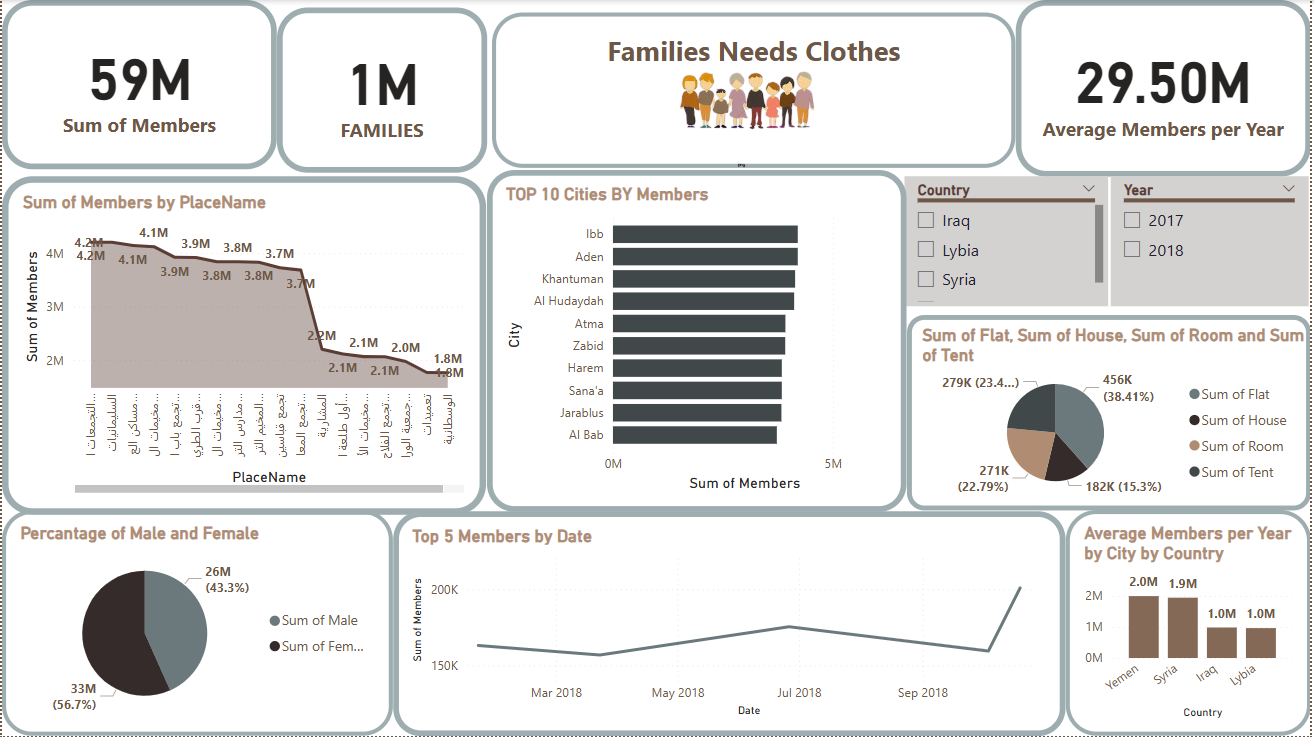

This screenshot's page, from the dashboard's own definition file:
{"tool":"powerbi","page":{"name":"Clothes","canvas":[1280,720],"ordinal":0},"visuals":[{"type":"card","fields":{"Values":["Sum(Clothes.Members)"]},"box":[0,0,268.6,165.7],"z":0},{"type":"pieChart","title":"Percantage of Male and Female","fields":{"Y":["Sum(Clothes.Male)","Sum(Clothes.Female)"]},"box":[0,499.4,382.4,221.2],"z":1000},{"type":"pieChart","fields":{"Y":["Sum(Clothes.Flat)","Sum(Clothes.House)","Sum(Clothes.Room)","Sum(Clothes.Tent)"]},"box":[884.7,308.2,395.3,191.2],"z":2000},{"type":"lineChart","title":"Top 5  Members by Date","fields":{"Category":["Clothes.Date.Variation.Date Hierarchy.Year"],"Y":["Sum(Clothes.Members)"]},"box":[382.7,500.1,657.9,220.1],"z":3000},{"type":"areaChart","fields":{"Category":["Clothes.PlaceName"],"Y":["Sum(Clothes.Members)"]},"box":[0,172.7,473.8,331.1],"z":4000},{"type":"card","fields":{"Values":["Clothes.FAMILIES"]},"box":[268.6,7.1,205.7,161.4],"z":5000},{"type":"card","fields":{"Values":["Clothes.Average Members per Year"]},"box":[991.7,0,288.6,172.4],"z":6000},{"type":"clusteredColumnChart","fields":{"Y":["Clothes.Average Members per Year by City"],"Category":["Clothes.Country"]},"box":[1040.3,499.4,239.7,221.2],"z":7000},{"type":"slicer","fields":{"Values":["Clothes.Year"]},"box":[1084.7,172.4,193.2,127.2],"z":8000},{"type":"slicer","fields":{"Values":["Clothes.Country"]},"box":[885.3,172.4,199.3,127.2],"z":9000},{"type":"textbox","box":[479.4,12.2,512.4,151.6],"z":10000},{"type":"image","box":[474.5,23.2,511.1,149.2],"z":11000},{"type":"clusteredBarChart","title":"TOP 10 Cities BY Members","fields":{"Category":["Clothes.City"],"Y":["Sum(Clothes.Members)"]},"box":[474.3,165.7,410,334.3],"z":12000}]}

Visuals, with their boxes in screenshot pixels (x1, y1, x2, y2), scaled from the page's 1280x720 canvas onto the 1314x737 screenshot:
card - Sum(Clothes.Members): bbox=[0, 0, 276, 170]
"Percantage of Male and Female" pieChart: bbox=[0, 511, 393, 736]
pieChart - Sum(Clothes.Flat) x Sum(Clothes.House): bbox=[908, 315, 1313, 511]
"Top 5  Members by Date" lineChart: bbox=[393, 512, 1068, 736]
areaChart - Clothes.PlaceName x Sum(Clothes.Members): bbox=[0, 177, 486, 516]
card - Clothes.FAMILIES: bbox=[276, 7, 487, 172]
card - Clothes.Average Members per Year: bbox=[1018, 0, 1313, 176]
clusteredColumnChart - Clothes.Average Members per Year by City x Clothes.Country: bbox=[1068, 511, 1313, 736]
slicer - Clothes.Year: bbox=[1114, 176, 1312, 307]
slicer - Clothes.Country: bbox=[909, 176, 1113, 307]
textbox: bbox=[492, 12, 1018, 168]
image: bbox=[487, 24, 1012, 176]
"TOP 10 Cities BY Members" clusteredBarChart: bbox=[487, 170, 908, 512]
